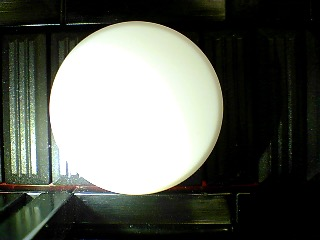BLANK: (48, 20, 224, 196)
